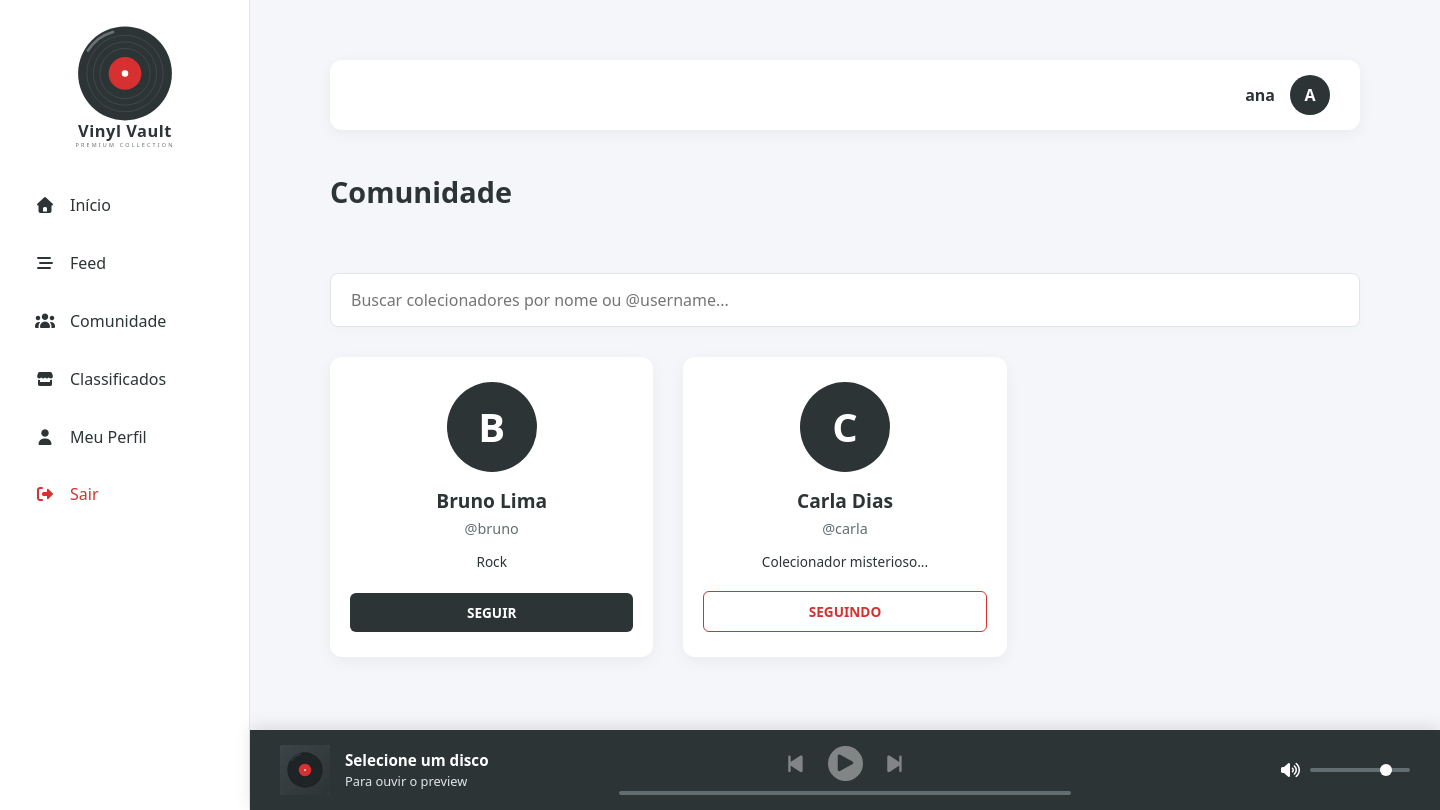
Community › shows an error and keeps the button state when following fails
The image size is (1440, 810).
Click the button "Seguir": (492, 612) [350,593,633,632]
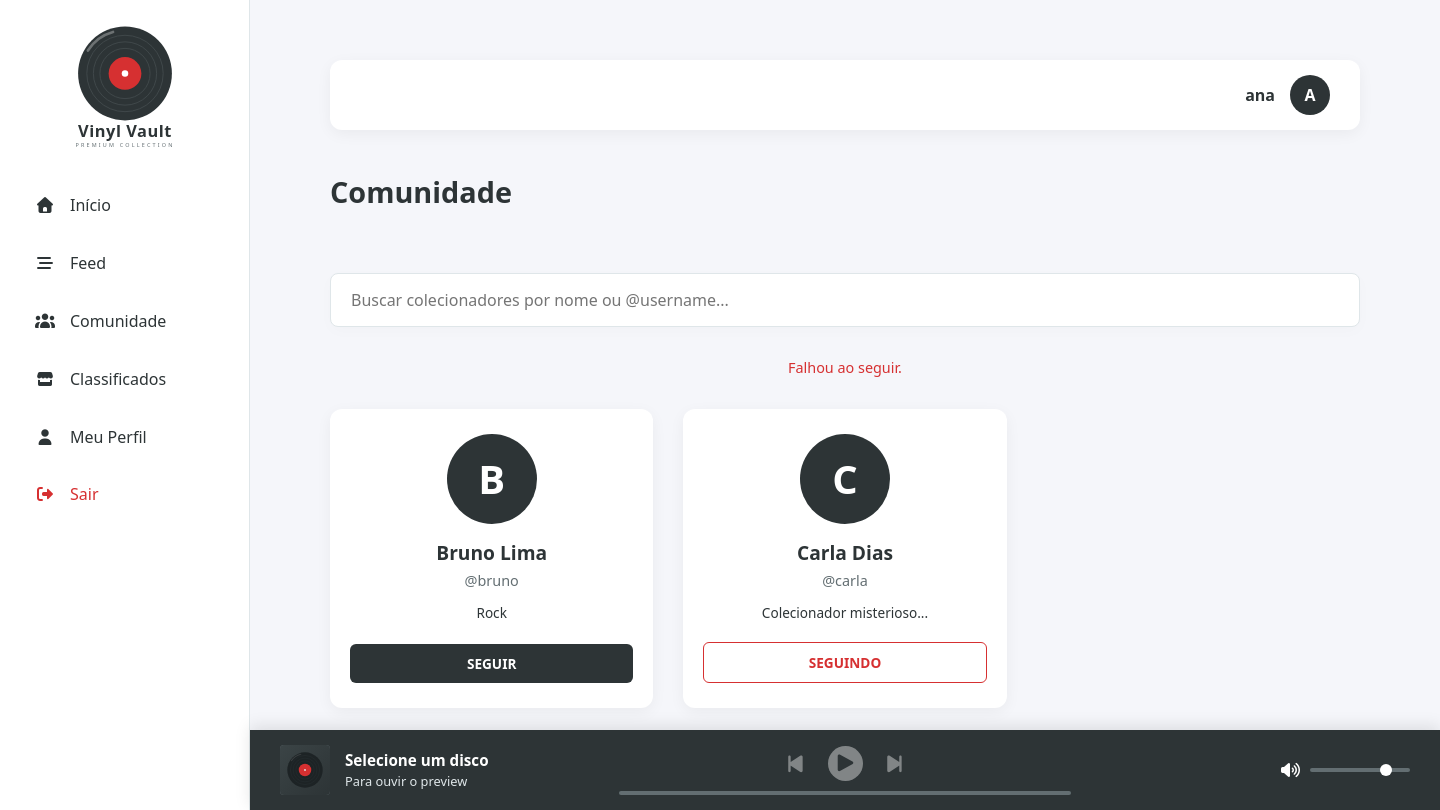
Expected: the button "Seguir" is shown, [350,644,633,683]
Now the message reads "Falhou ao seguir.", box [788,358,902,377]
